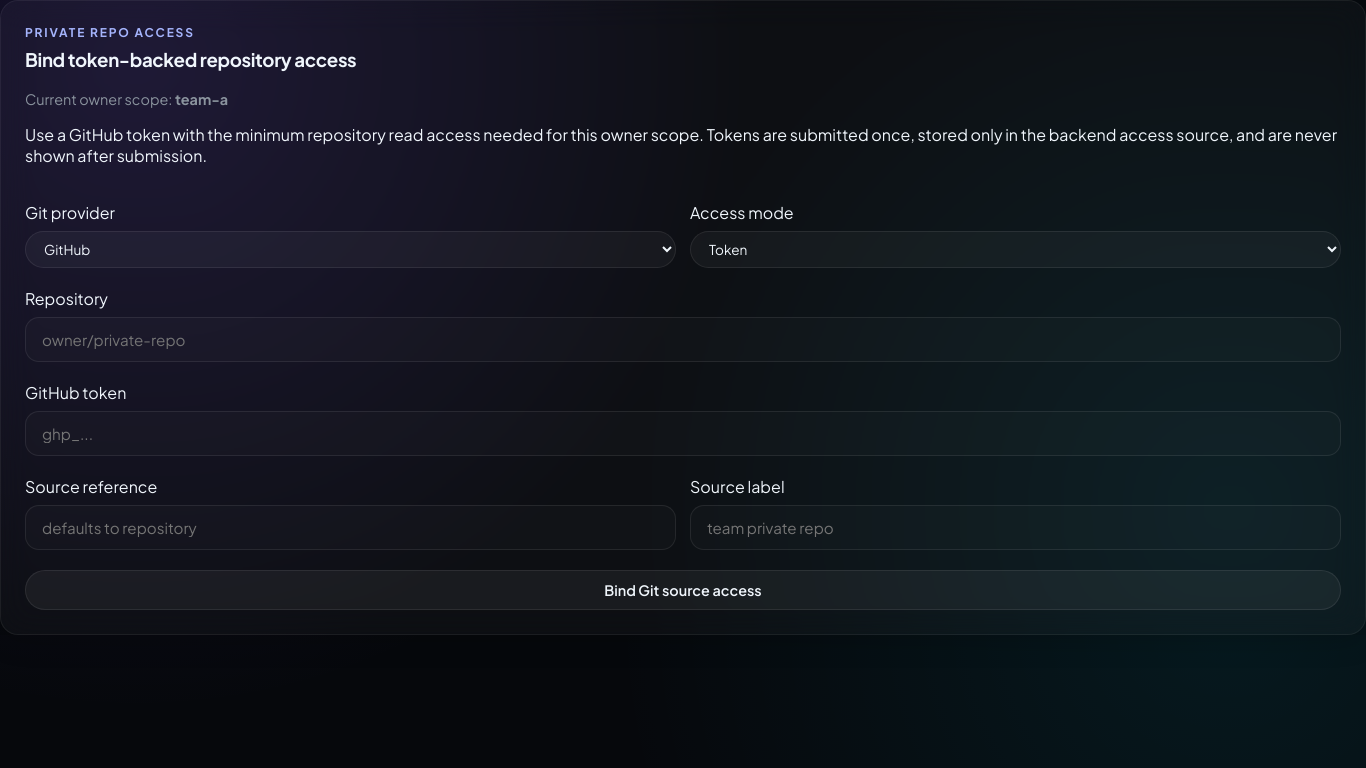
Test: PrivateRepoAccessPanel › records unsupported Git providers as operator-guided without echoing token material
The width and height of the screenshot is (1366, 768).
Select "GitLab" in the dropdown labelled "Git provider": point(350, 249) x1=25 y1=231 x2=676 y2=268
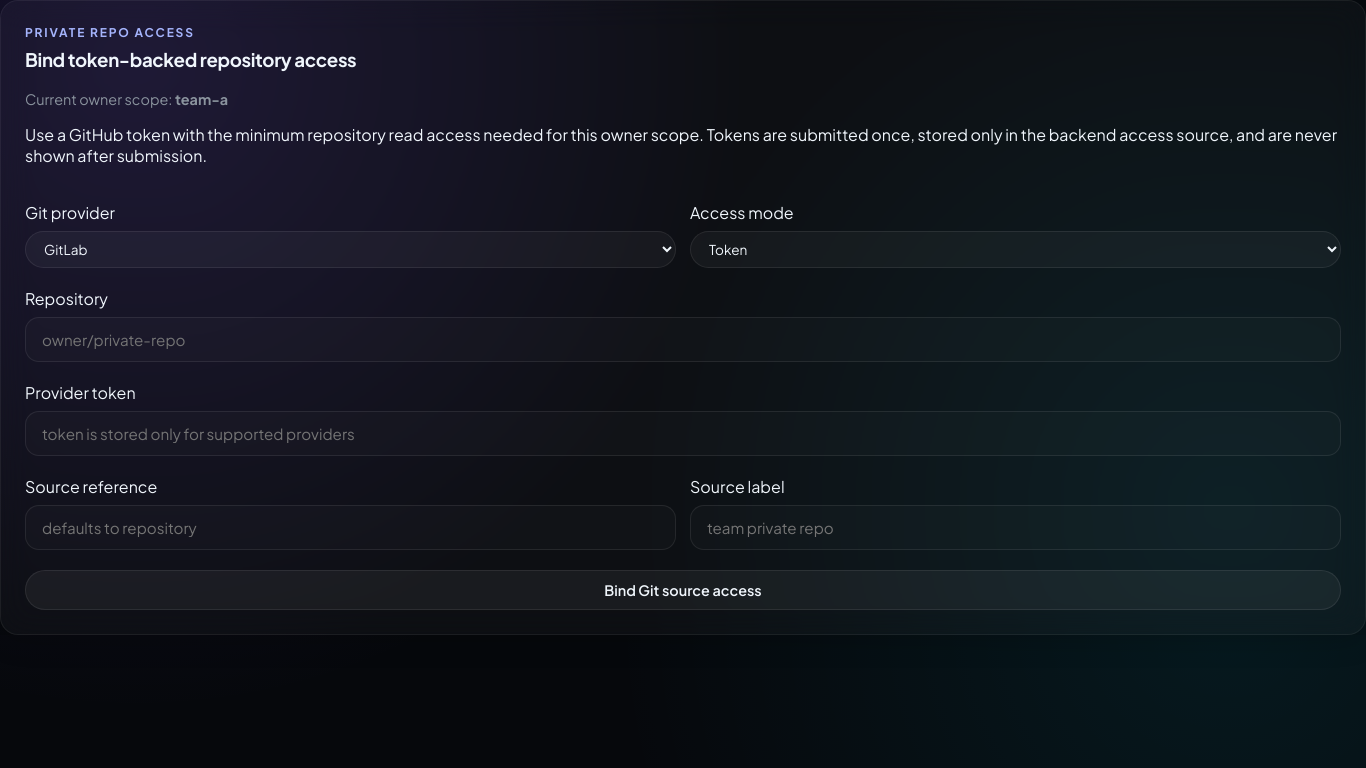
In the field labelled "Repository": point(683, 339) x1=25 y1=317 x2=1341 y2=362, type "group/private-repo"
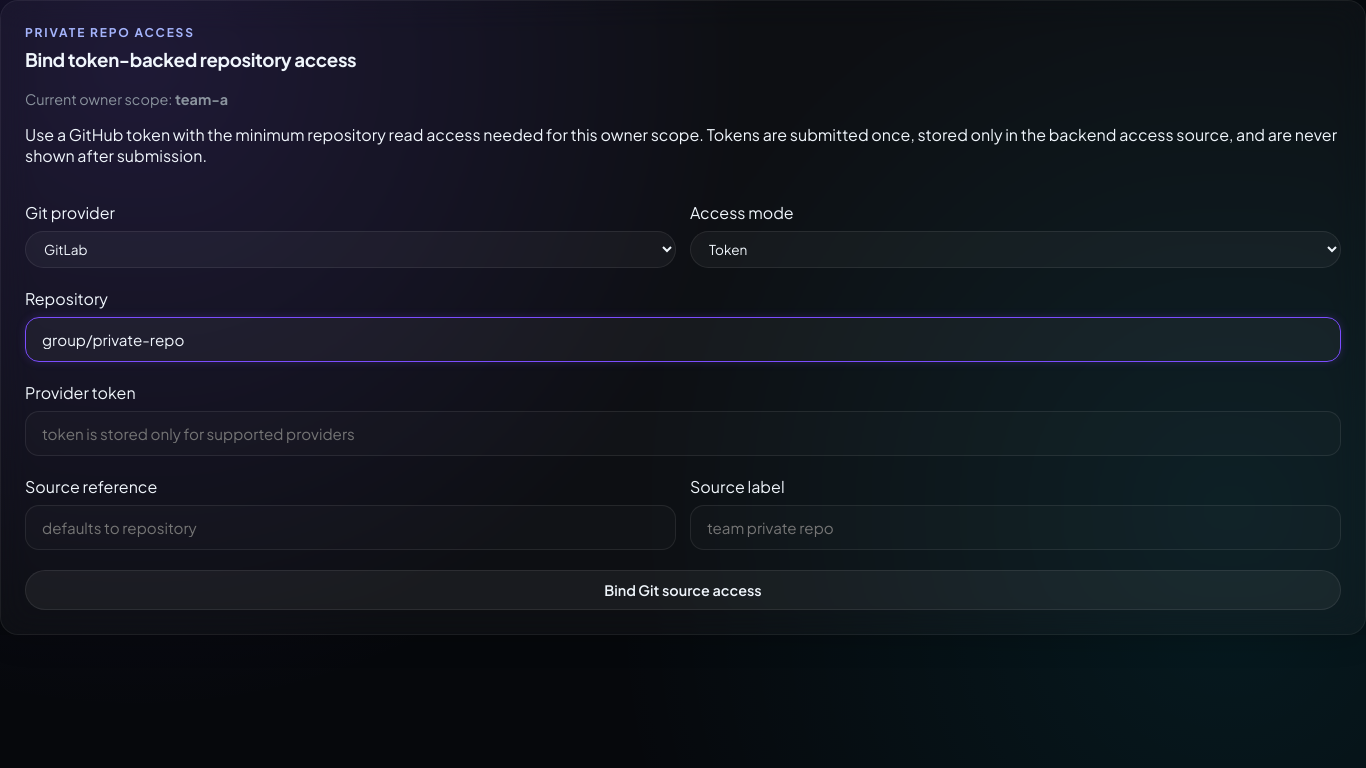
In the password field labelled "Provider token": point(683, 433) x1=25 y1=411 x2=1341 y2=456, type "glpat-private-token"
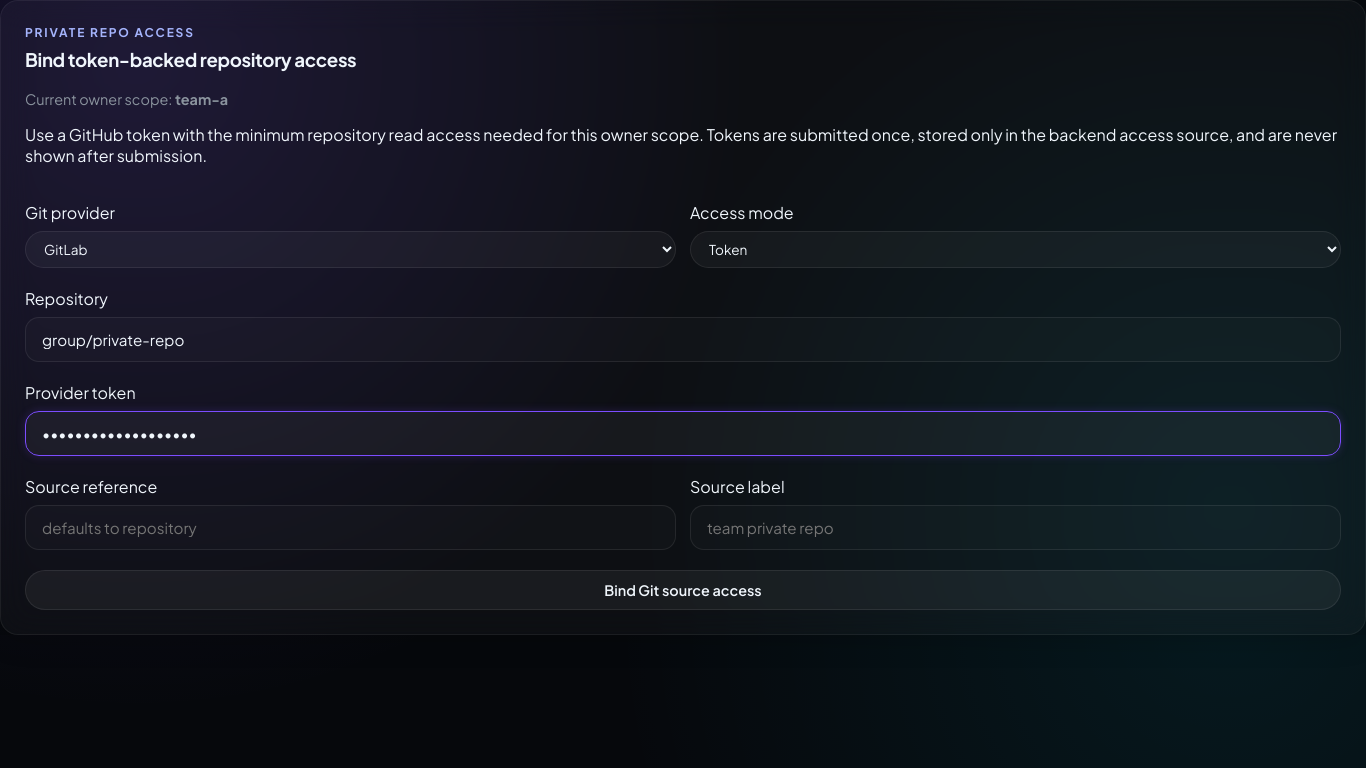
Click the button "Bind Git source access": point(683, 590) x1=25 y1=570 x2=1341 y2=610
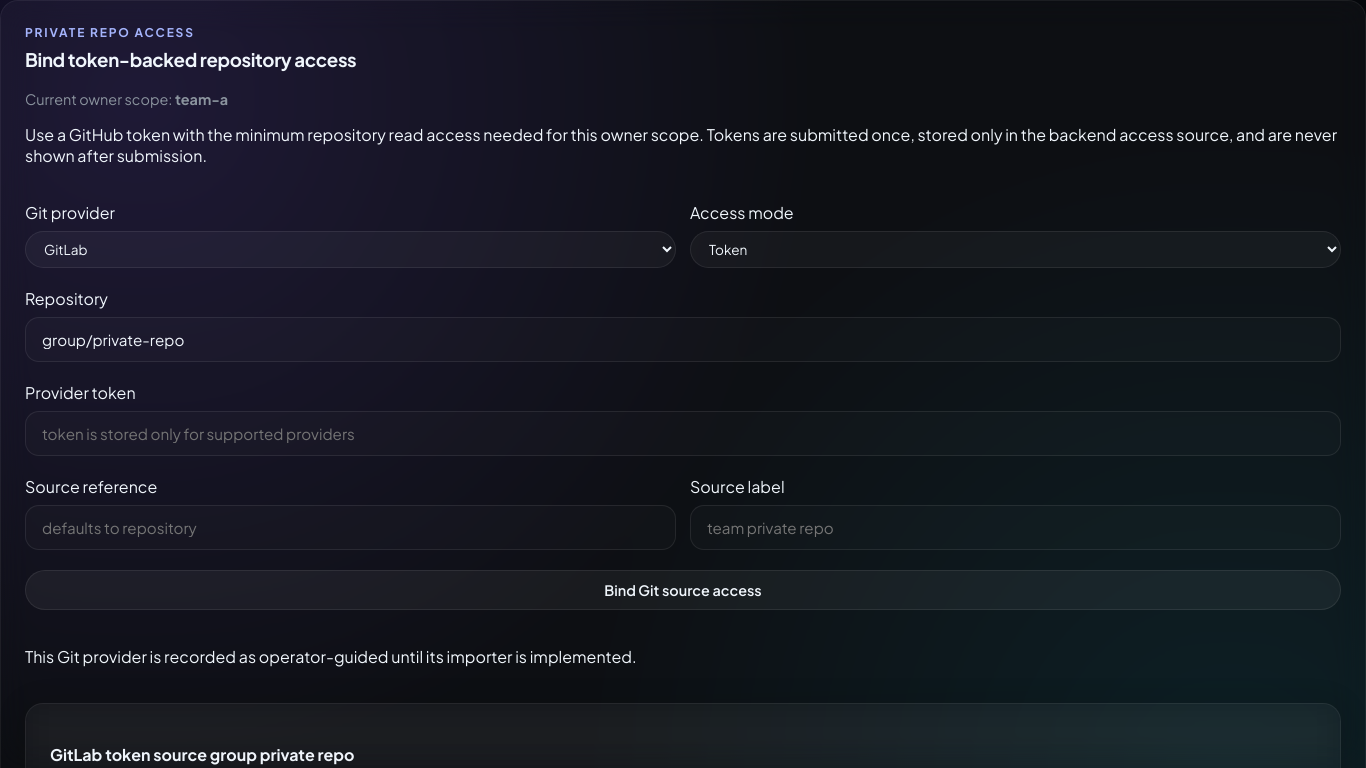
Check: the text "operator-guided until its importer is implemented" is shown, box x1=25 y1=646 x2=637 y2=667
Check: the password field labelled "Provider token" is empty, box x1=25 y1=411 x2=1341 y2=456
